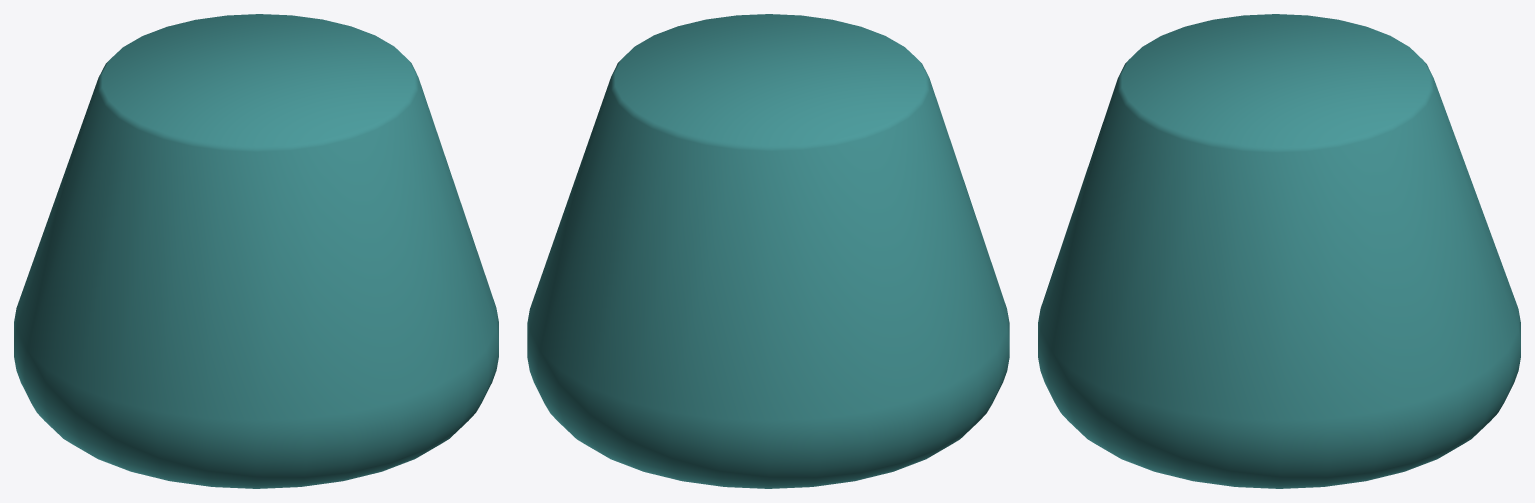
File: SM_大号锥形瓶液体_008.fbx
The picture shows the model from 3 angles, left to right: view 1: azimuth 30°, elevation 25°; view 2: azimuth 150°, elevation 25°; view 3: azimuth 270°, elevation 25°; orthographic projection.
Visible parts, largest first — view 1: SM_大号锥形瓶液体_008; view 2: SM_大号锥形瓶液体_008; view 3: SM_大号锥形瓶液体_008.
Part boxes in pixels (x1=…): SM_大号锥形瓶液体_008: x1=14, y1=14, x2=498, y2=488; SM_大号锥形瓶液体_008: x1=527, y1=14, x2=1009, y2=488; SM_大号锥形瓶液体_008: x1=1038, y1=14, x2=1520, y2=488.
Bounding box in the file's own units: 0.2159 × 0.1594 × 0.2147.
